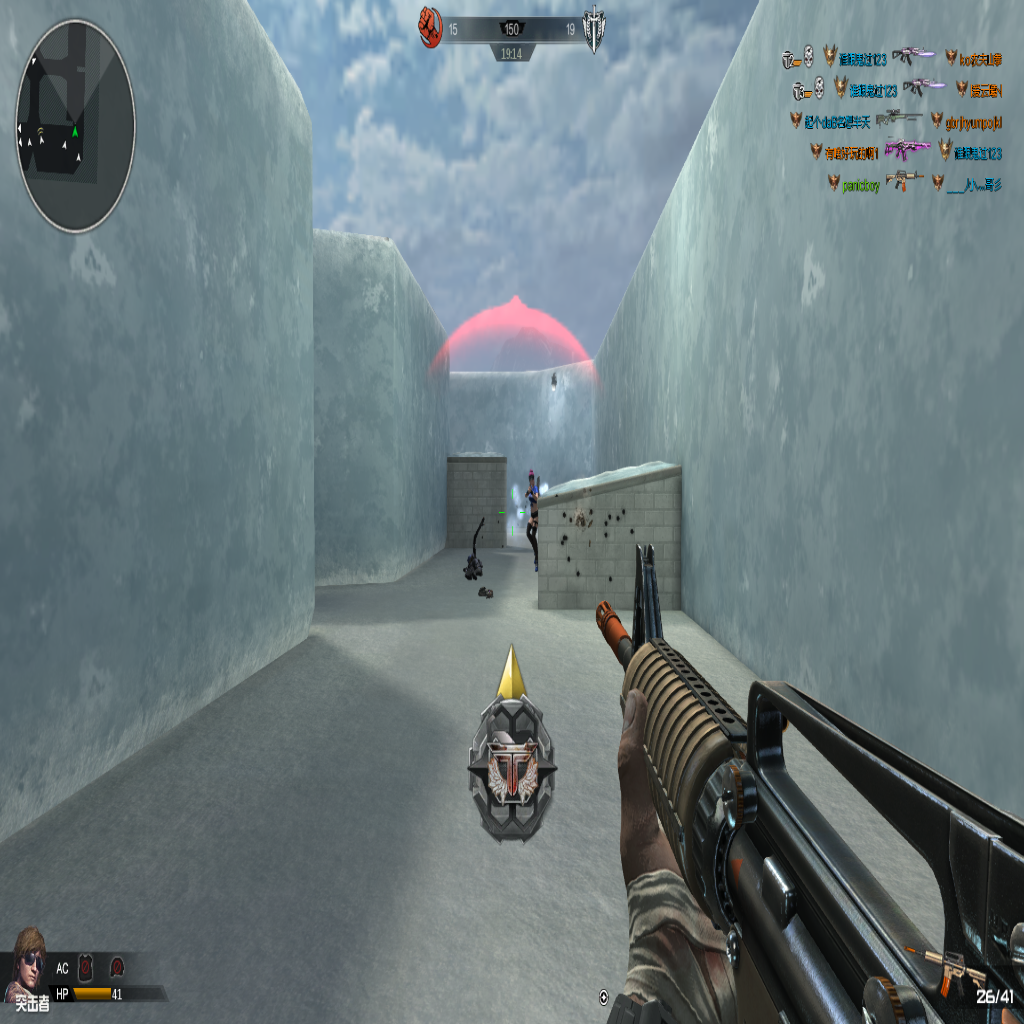ct: (525, 462, 538, 577)
